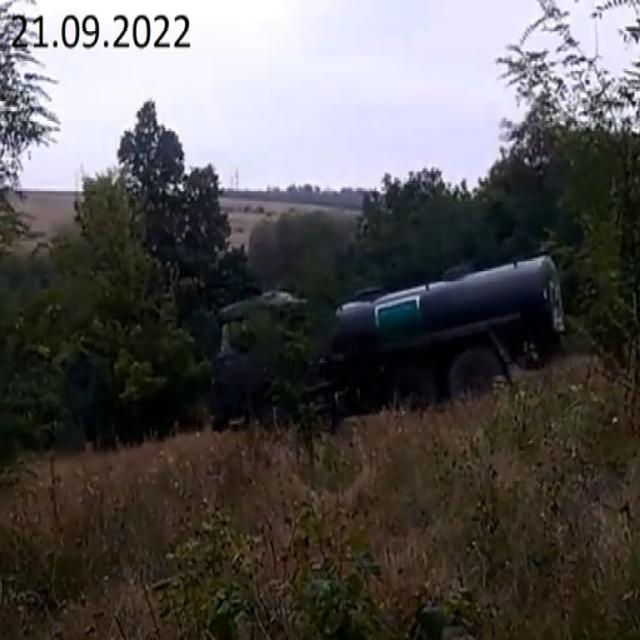TRUCK: (211, 236, 564, 464)
